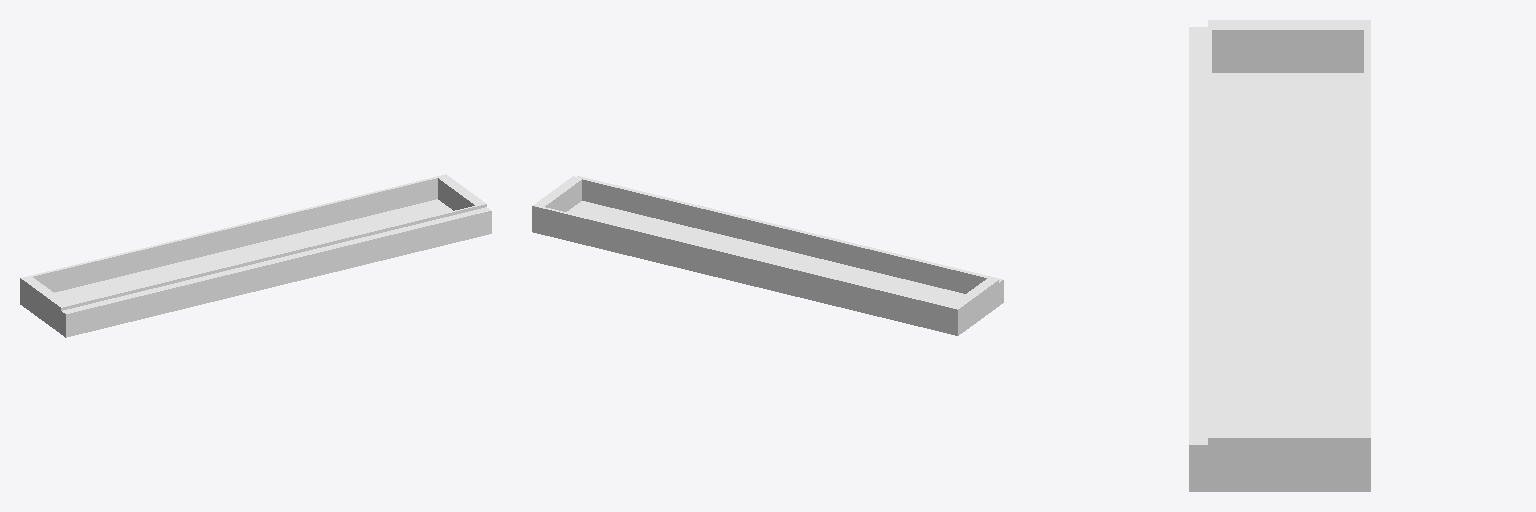
URDF robot description (pool):
<?xml version="1.0"?>
<robot name="pool">
    <link name="odom">
        <visual>
            <geometry>
                <mesh scale="0.1 0.1 0.1"
filename="package://boat_model/meshes/pool.stl"/>
            </geometry>
            <origin rpy="1.5708 0 0" xyz="0 0 0"/>
            <material name="concrete">
                <color rgba="1 1 1 1"/>
            </material>
        </visual>
    </link>
</robot>

--- Render facts (derived) ---
The picture shows the robot from 3 angles, left to right: view 1: azimuth 30°, elevation 25°; view 2: azimuth 150°, elevation 25°; view 3: azimuth 270°, elevation 25°; orthographic projection.
Model pool with 1 links and 0 joints (none), rooted at odom, posed every joint at zero.
Visible links, largest first — view 1: odom; view 2: odom; view 3: odom.
Link boxes in pixels (x1,y1,x2,y2): odom: (20, 174, 491, 337); odom: (532, 176, 1003, 335); odom: (1189, 20, 1370, 491).
Bounding box of the posed robot: 42 × 7.75 × 2.5 m (x, y, z).
Meshes: 1 distinct files referenced, 1 mesh visuals loaded (1 binary STL).